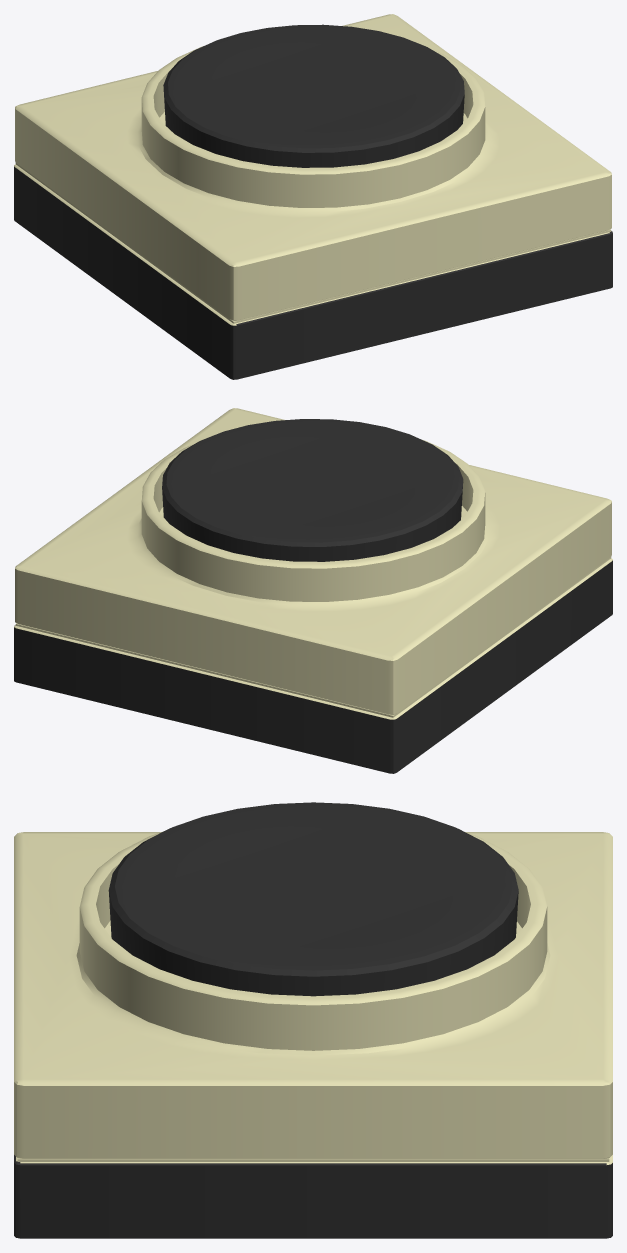
Rendered from Call.fbx.
The picture shows the model from 3 angles, top to bottom: view 1: azimuth 30°, elevation 25°; view 2: azimuth 150°, elevation 25°; view 3: azimuth 270°, elevation 25°; orthographic projection. The views are drawn at different scales.
Visible parts, largest first — view 1: Cube; view 2: Cube; view 3: Cube.
Part boxes in pixels (x1=…): Cube: x1=14, y1=14, x2=612, y2=379; Cube: x1=14, y1=408, x2=612, y2=773; Cube: x1=14, y1=802, x2=612, y2=1238.
Bounding box in the file's own units: 200 × 83.58 × 200.
